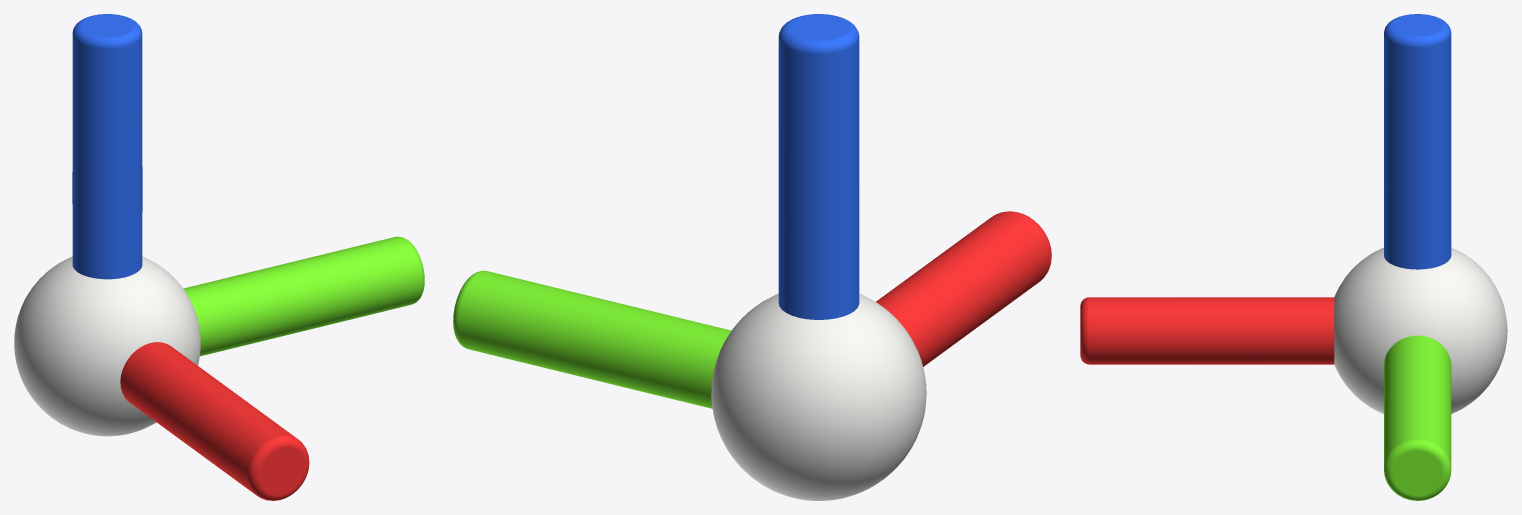
File: TCP.fbx
3 renders of one model, left to right at view 1: azimuth 30°, elevation 25°; view 2: azimuth 150°, elevation 25°; view 3: azimuth 270°, elevation 25°, orthographic. The views are drawn at different scales.
Parts seen in each view (by area): view 1: Body1, Body3, Body2, Body4; view 2: Body1, Body3, Body2, Body4; view 3: Body1, Body4, Body3, Body2.
Boxes of the visible parts, bbox=[...] form: Body1: bbox=[14, 256, 200, 436]; Body3: bbox=[72, 14, 142, 279]; Body2: bbox=[183, 236, 424, 356]; Body4: bbox=[120, 342, 309, 500]; Body1: bbox=[711, 293, 926, 500]; Body3: bbox=[778, 14, 859, 319]; Body2: bbox=[453, 270, 731, 408]; Body4: bbox=[876, 211, 1051, 366]; Body1: bbox=[1334, 247, 1507, 413]; Body4: bbox=[1080, 297, 1334, 364]; Body3: bbox=[1384, 14, 1451, 269]; Body2: bbox=[1384, 335, 1451, 500].
Bounding box in the file's own units: 190 × 190 × 190.
